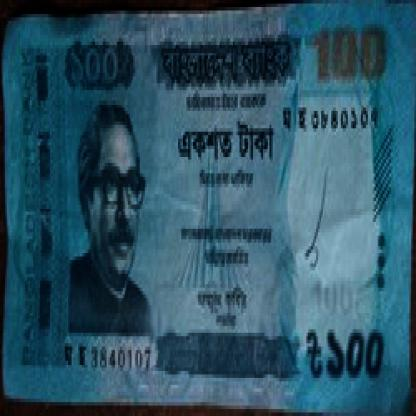one hundred taka: (300, 10, 400, 100), (323, 302, 388, 392), (60, 28, 140, 97)
